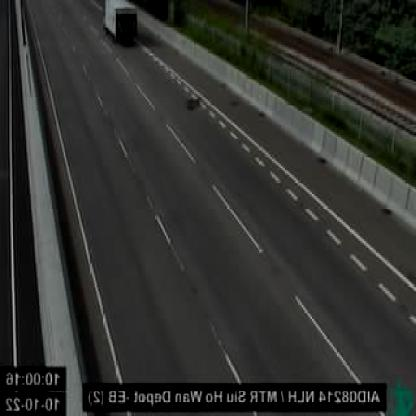Truck: (100, 0, 136, 45)
